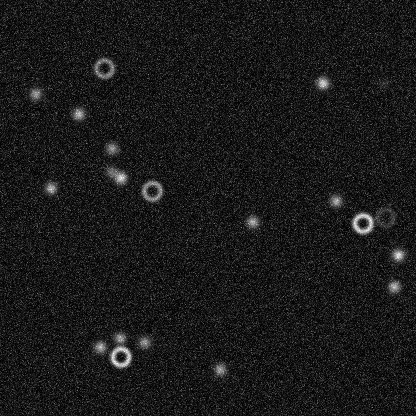Ring: (92, 56, 116, 80), (373, 205, 397, 229), (108, 344, 132, 368), (350, 211, 374, 235), (139, 178, 163, 202)
Spot: (375, 74, 391, 90), (136, 334, 152, 350), (103, 140, 119, 156), (389, 246, 405, 262), (111, 330, 127, 346), (212, 361, 228, 377), (27, 85, 43, 101), (92, 339, 108, 355), (70, 105, 86, 121), (314, 74, 330, 90), (42, 180, 58, 196), (327, 192, 343, 208), (103, 163, 119, 179), (112, 169, 128, 185), (385, 278, 401, 294), (244, 213, 260, 229)
